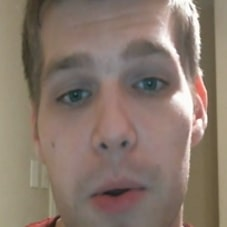awake: (42, 40, 182, 216)
